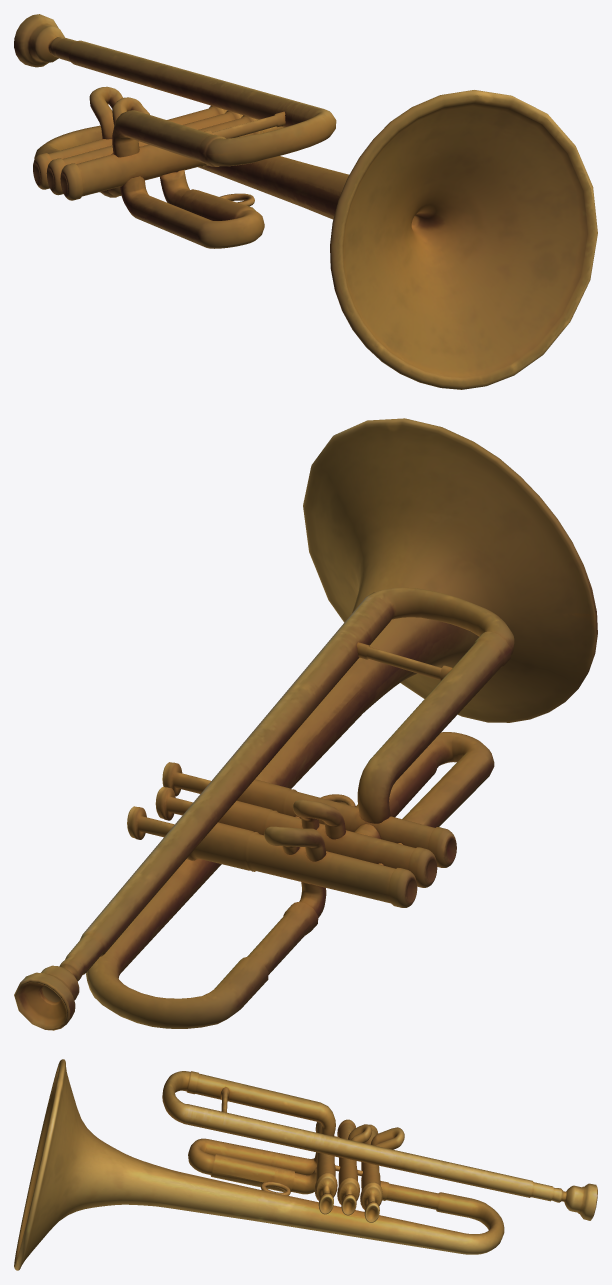
File: SM_Trumpet.fbx
3 renders of one model, top to bottom at view 1: azimuth 30°, elevation 25°; view 2: azimuth 150°, elevation 25°; view 3: azimuth 270°, elevation 25°, orthographic. The views are drawn at different scales.
Parts seen in each view (by area): view 1: SM_Trumpet_LOD0; view 2: SM_Trumpet_LOD0; view 3: SM_Trumpet_LOD0.
Part boxes in pixels (bbox=[...]): SM_Trumpet_LOD0: bbox=[14, 14, 597, 389]; SM_Trumpet_LOD0: bbox=[14, 418, 597, 1030]; SM_Trumpet_LOD0: bbox=[14, 1059, 597, 1270].
Bounding box in the file's own units: 24.27 × 52.55 × 19.19.
Materials: 1 (1 with a texture image).
